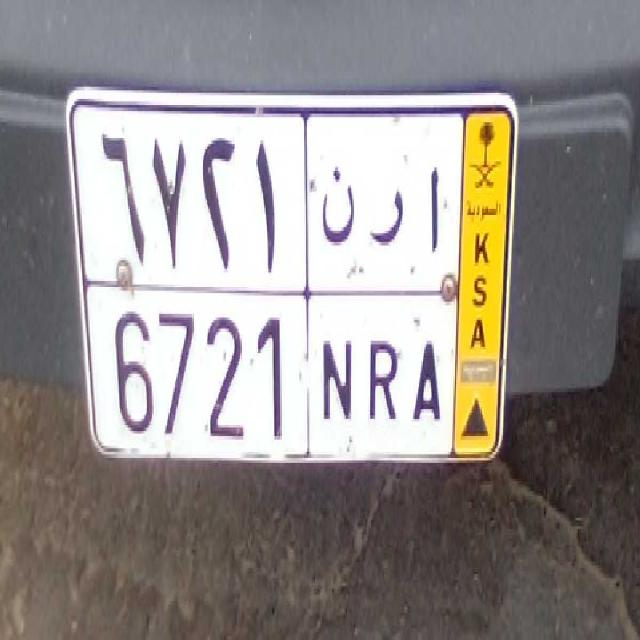license_plate: (84, 285, 454, 460)
